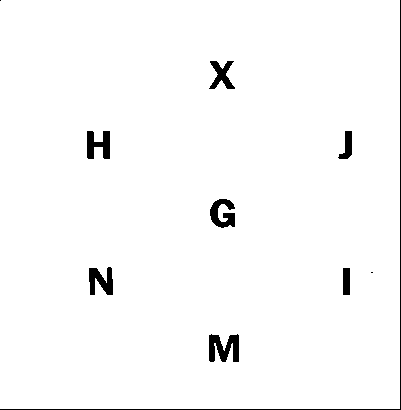I: (333, 261, 360, 306)
